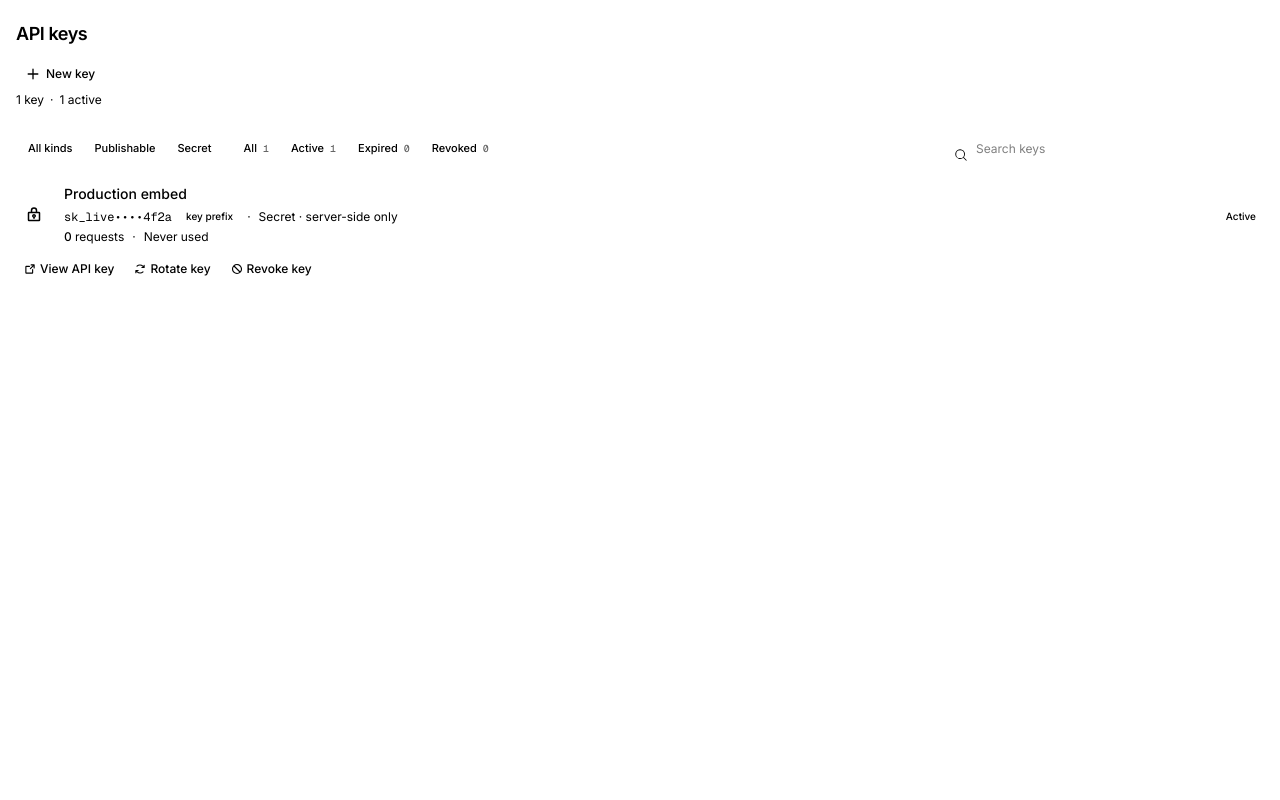
it: KeysClient › reveals the new secret when a key is rotated from a row
expect the text "Production embed" is shown: met, box [64, 185, 187, 202]
Click the button "Rotate key" at {"x": 172, "y": 269}, box [126, 257, 219, 281]
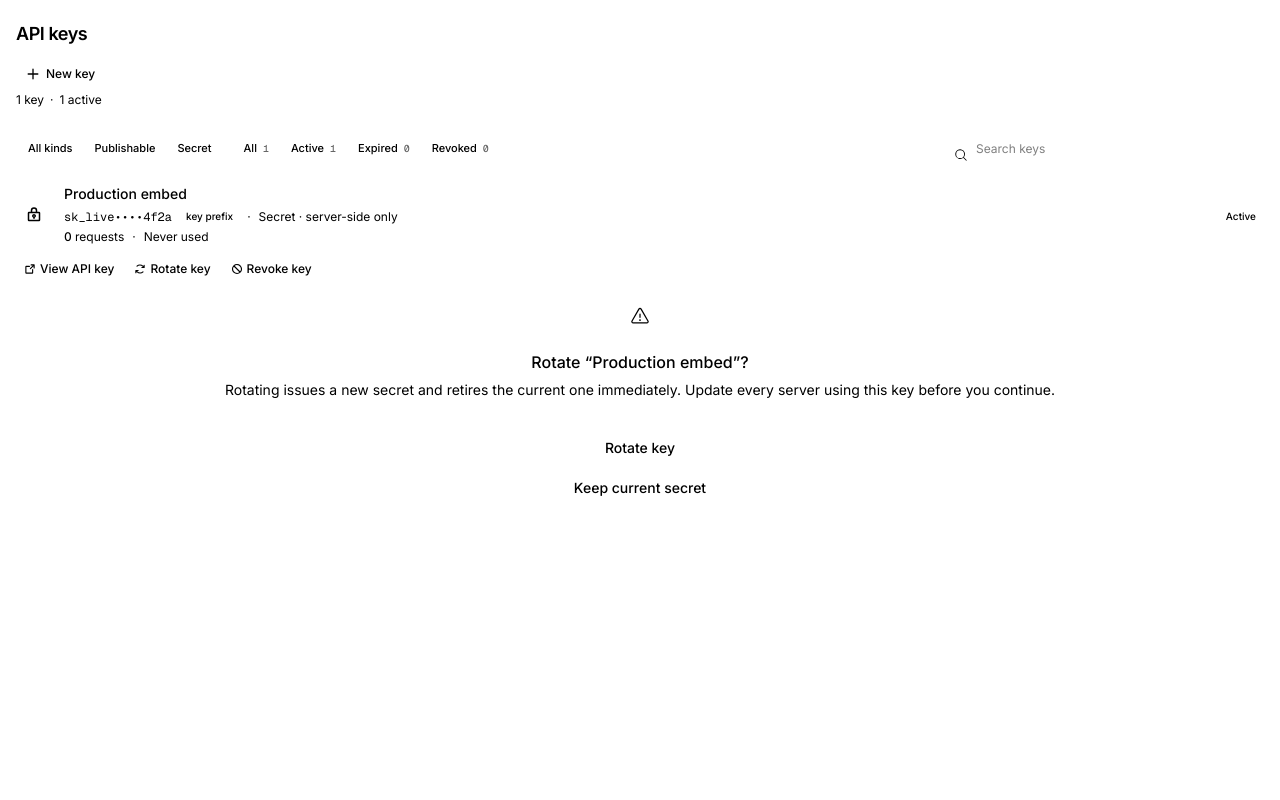
Click the button "Rotate key" at {"x": 640, "y": 448}, box [16, 432, 1264, 464]
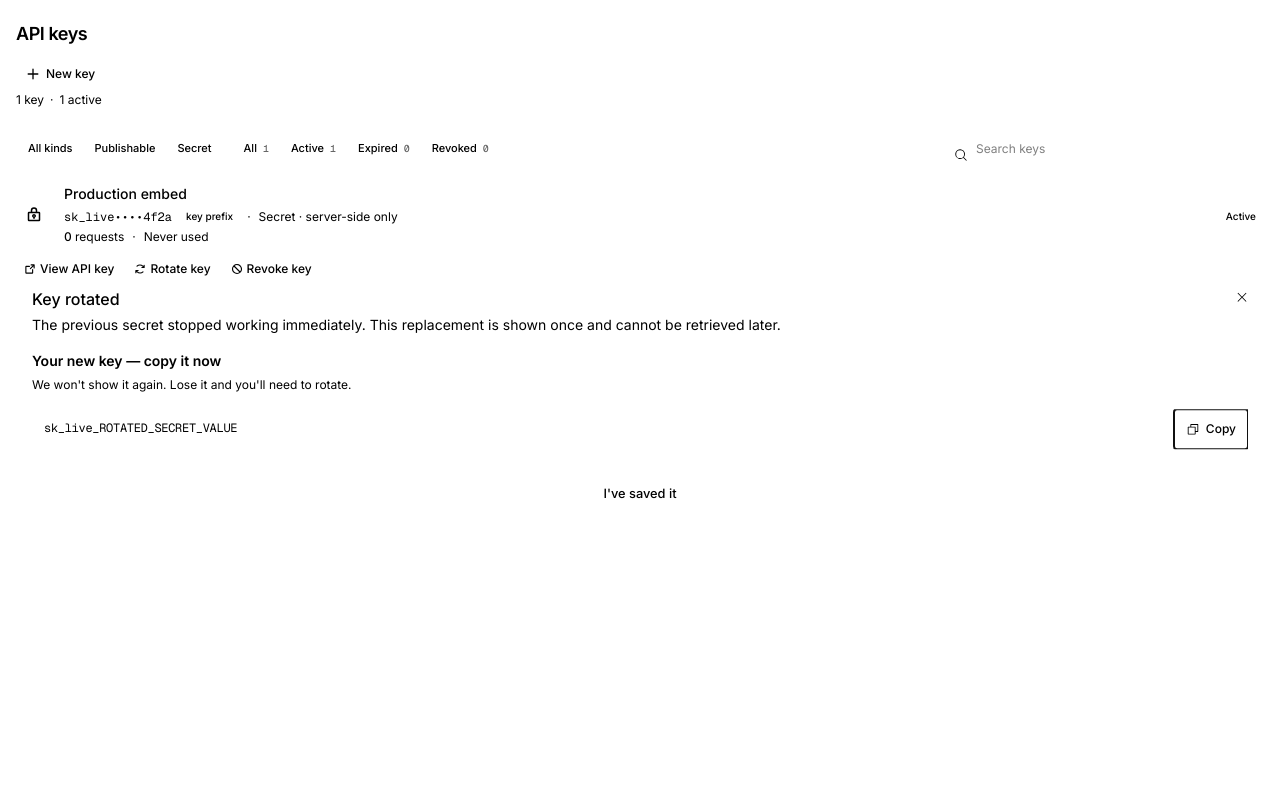
expect the text "sk_live_ROTATED_SECRET_VALUE" is shown: met, box [44, 420, 237, 436]
